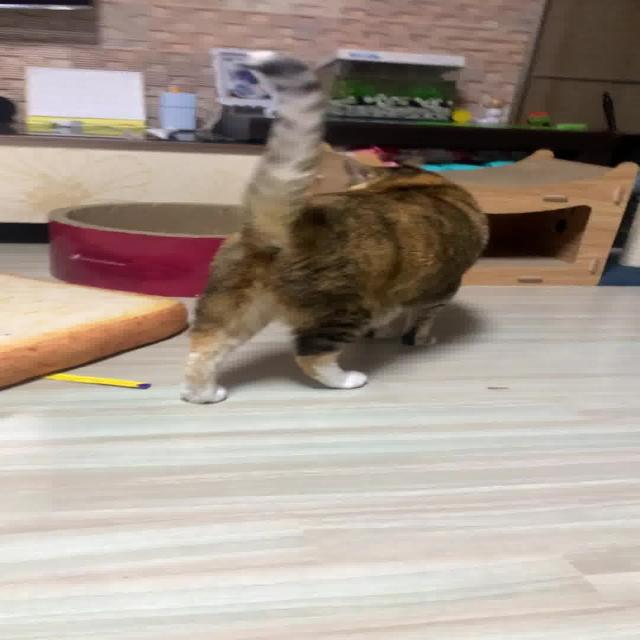cat: (138, 45, 505, 410)
